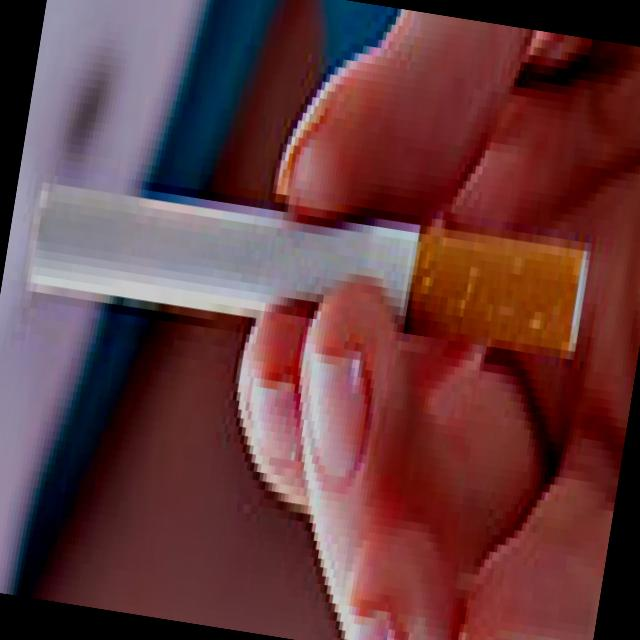cigarette: (11, 142, 604, 410)
